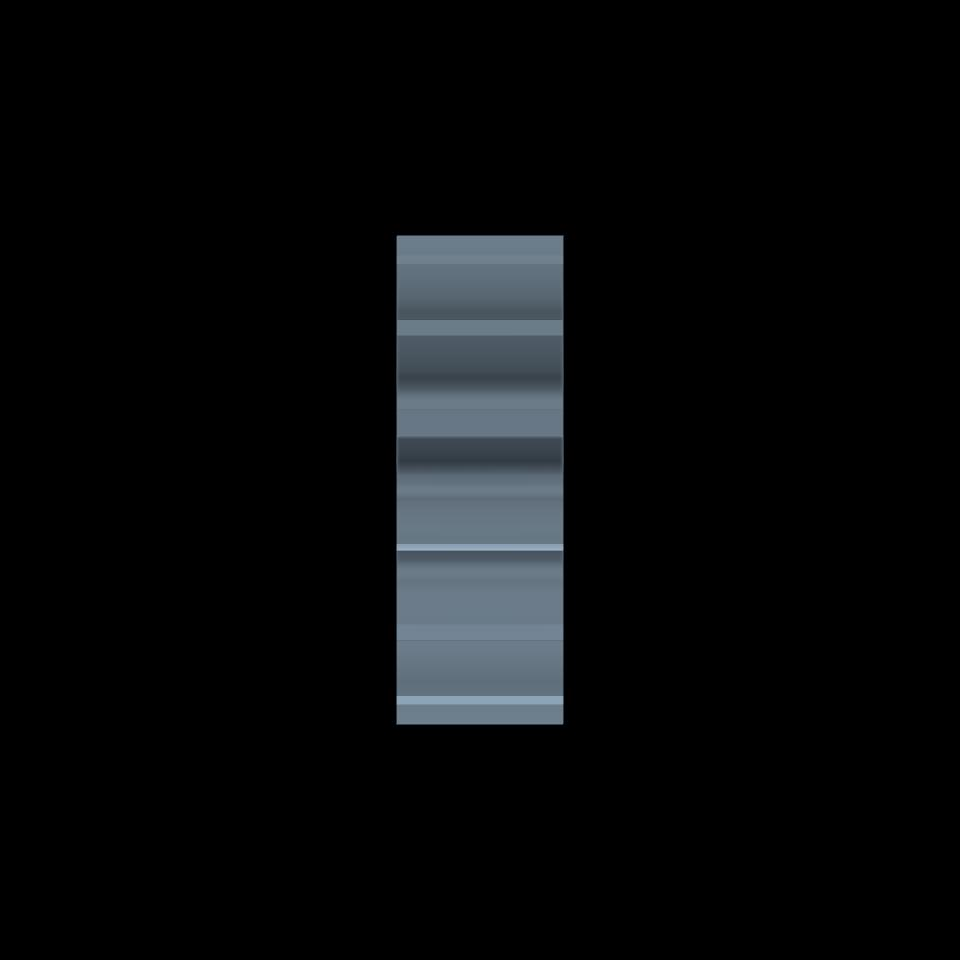Straight: (397, 234, 563, 723)
